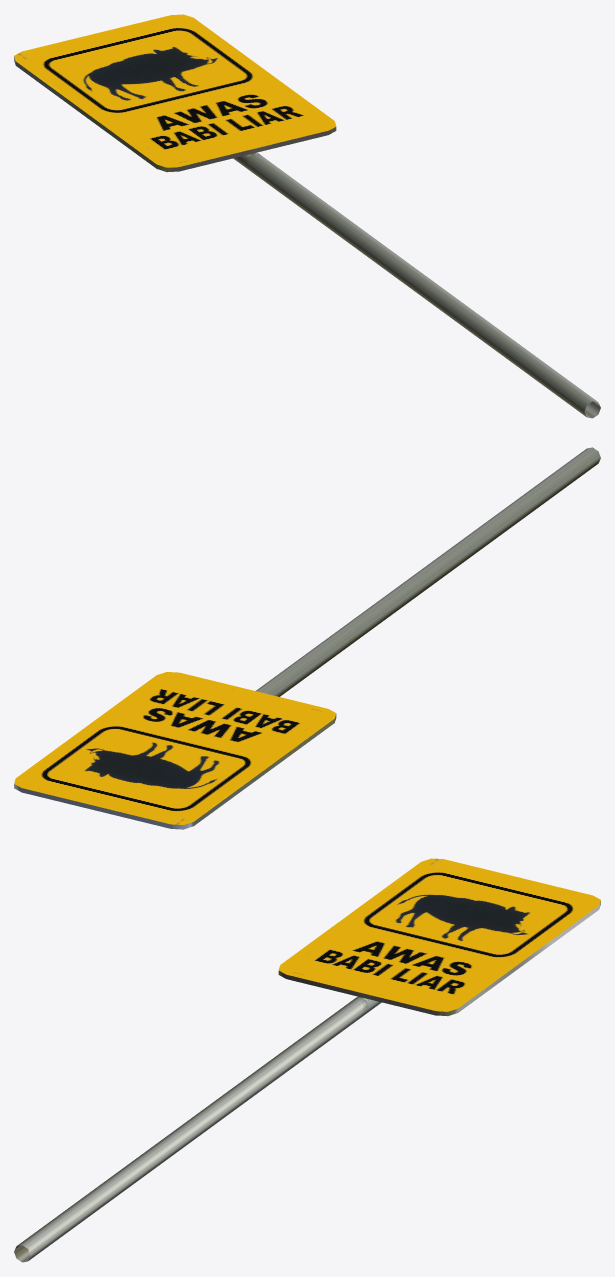
Rendered from palang.fbx.
3 renders of one model, top to bottom at view 1: azimuth 30°, elevation 25°; view 2: azimuth 150°, elevation 25°; view 3: azimuth 330°, elevation 25°, orthographic.
Parts seen in each view (by area): view 1: Cylinder; view 2: Cylinder; view 3: Cylinder.
Boxes of the visible parts, bbox=[...] form: Cylinder: bbox=[14, 14, 600, 418]; Cylinder: bbox=[14, 447, 600, 829]; Cylinder: bbox=[14, 858, 600, 1262].
Bounding box in the file's own units: 130 × 17.66 × 629.
Materials: 1 (1 with a texture image).
